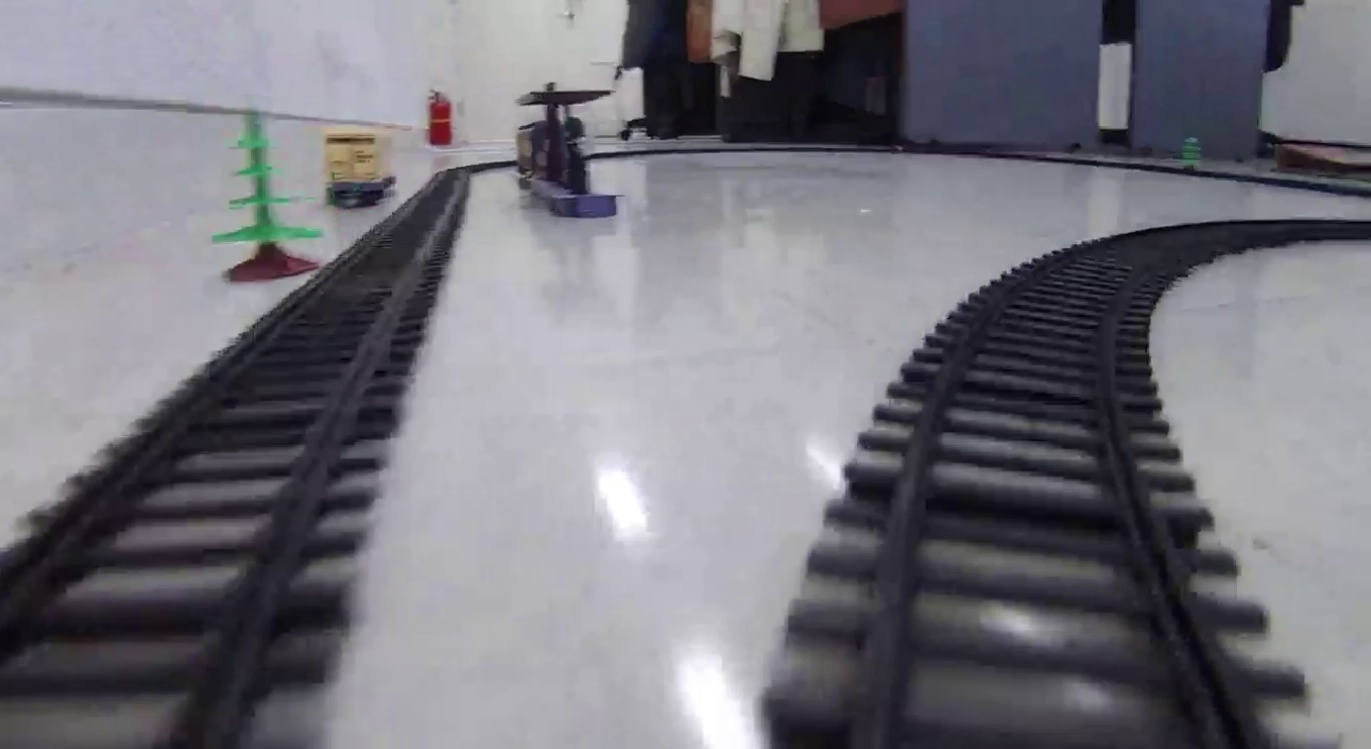tree: (211, 111, 322, 282)
